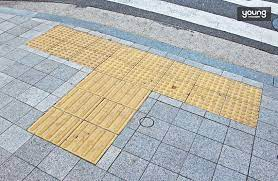guide_blocks: (26, 83, 262, 164), (26, 24, 82, 82), (84, 38, 133, 81), (134, 46, 175, 82), (177, 62, 228, 82)
